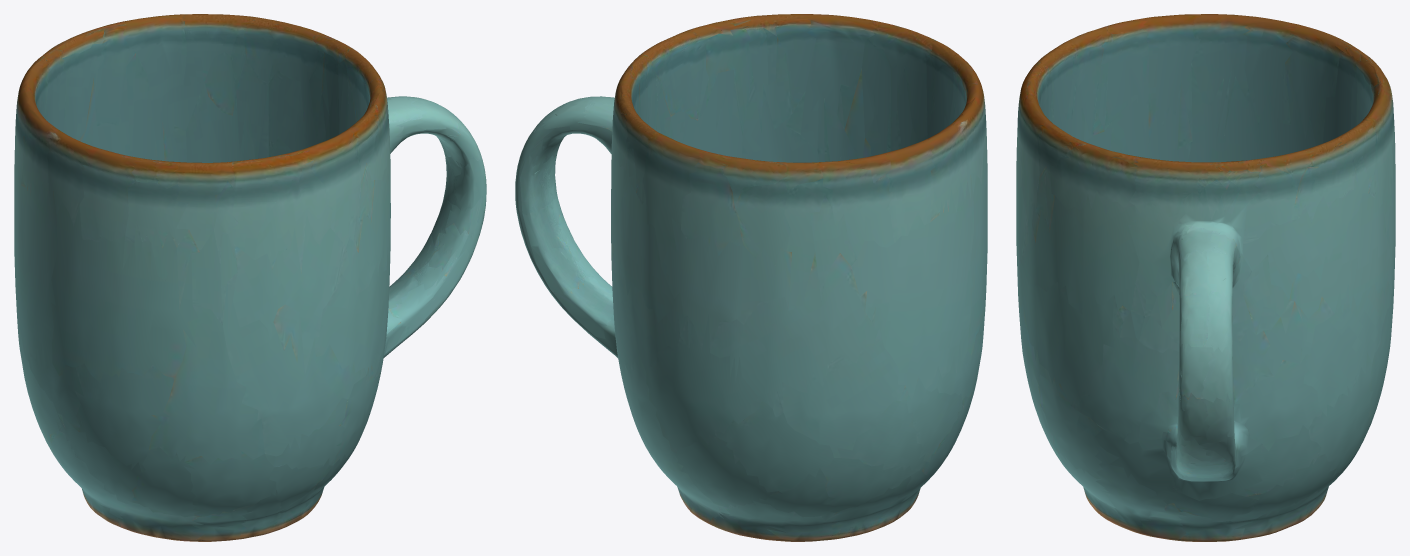
The model's file is mug.glb.
3 renders of one model, left to right at view 1: azimuth 30°, elevation 25°; view 2: azimuth 150°, elevation 25°; view 3: azimuth 270°, elevation 25°, orthographic.
Bounding box in the file's own units: 1.9 × 1.68 × 1.43.
1 material, 1 textured.
